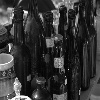beer: (49, 33, 70, 100)
